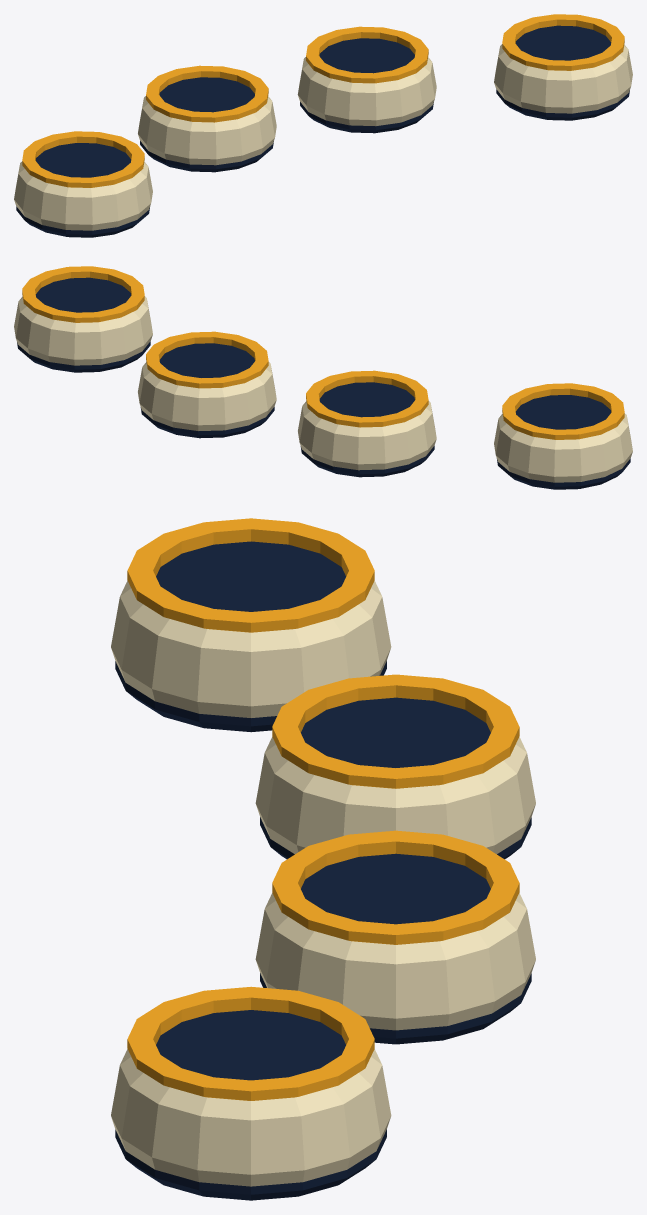
File: copy_memory_station_four.obj
The picture shows the model from 3 angles, top to bottom: view 1: azimuth 30°, elevation 25°; view 2: azimuth 150°, elevation 25°; view 3: azimuth 270°, elevation 25°; orthographic projection. The views are drawn at different scales.
Size of the model in its own units: 9.21 by 0.8 by 2.82.
